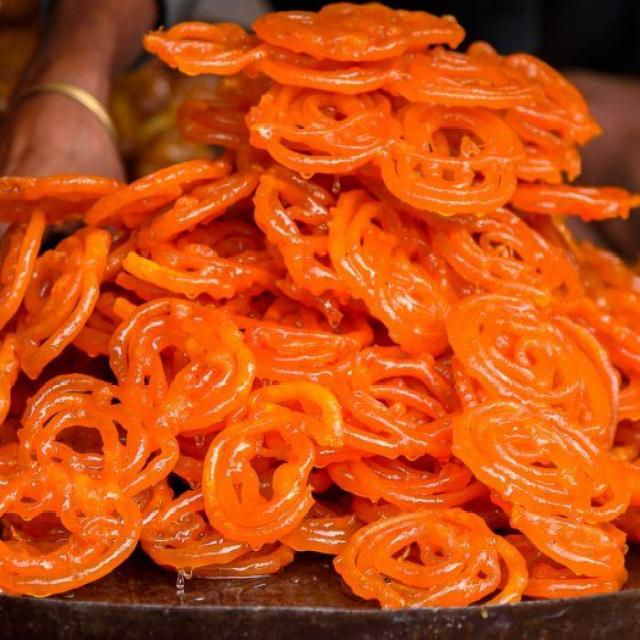jalebi: (2, 20, 638, 616)
